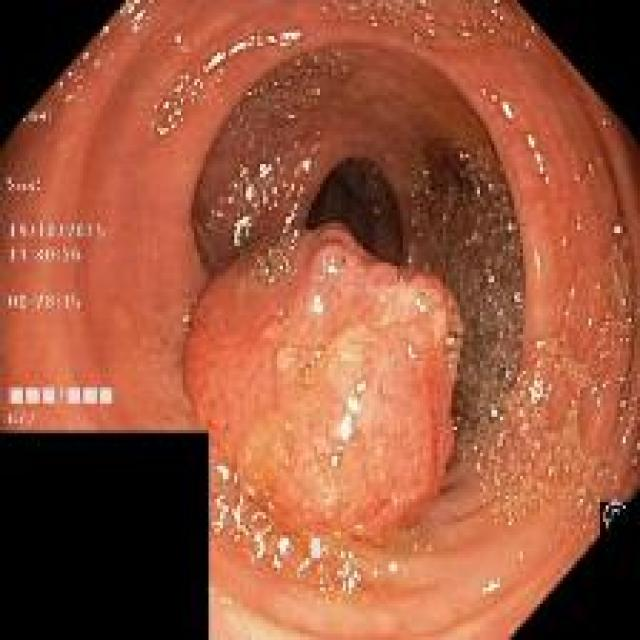Polyps: (185, 224, 461, 539)
